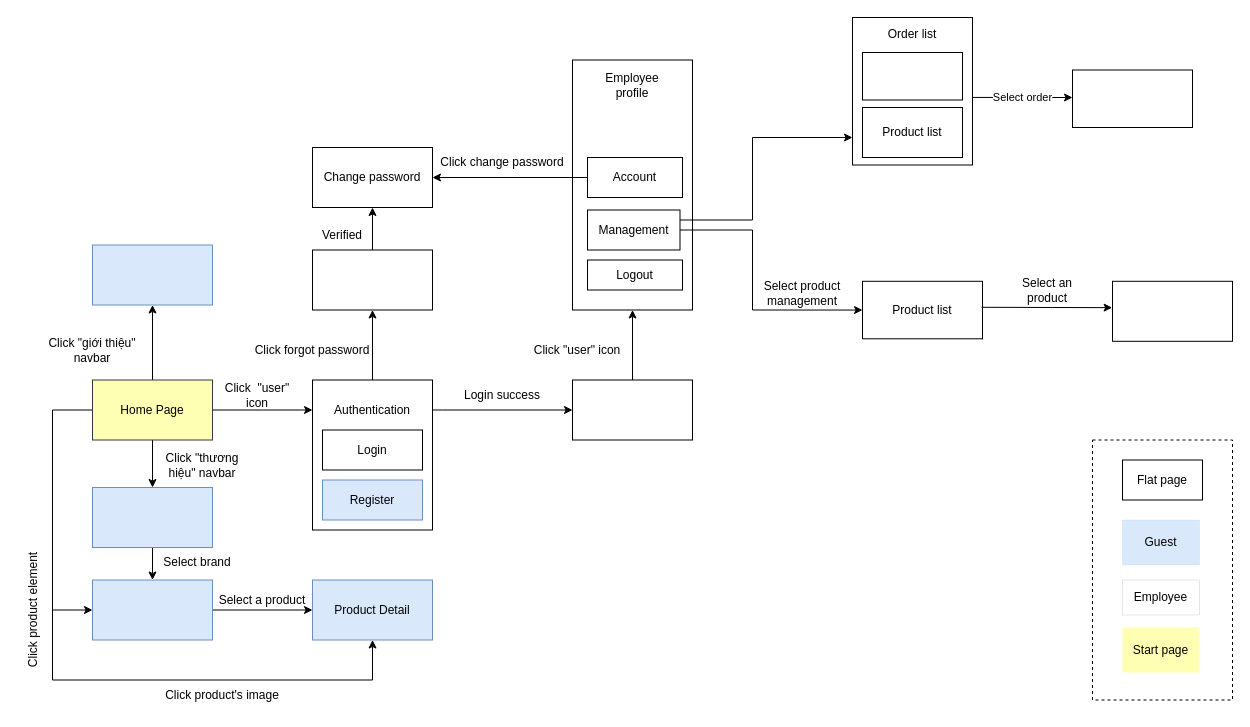
Some shapes in this 1250 by 727 pixel diagram are drawn without their labels. The shapes that lost their labels are listed below. From the top down, each one's centre as x and y in pixels, then its label:
At pixel 912 76: "Incoming order request".
At pixel 1132 98: "Order detail".
At pixel 152 274: "Introduce".
At pixel 372 279: "Forgot password".
At pixel 1172 310: "update product".
At pixel 632 409: "Post Login".
At pixel 152 517: "Brand".
At pixel 152 609: "Product".
